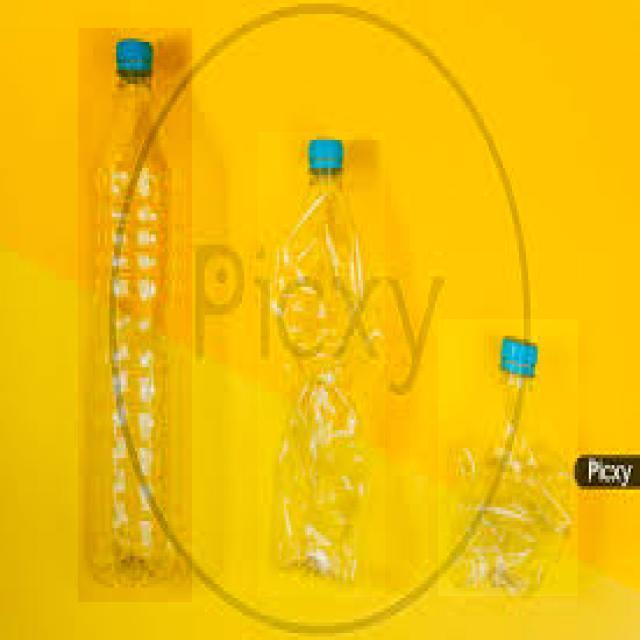bottle: (78, 28, 192, 602), (258, 132, 385, 597), (438, 319, 578, 596)
cap: (488, 335, 547, 383), (300, 135, 347, 185), (112, 33, 158, 80)
